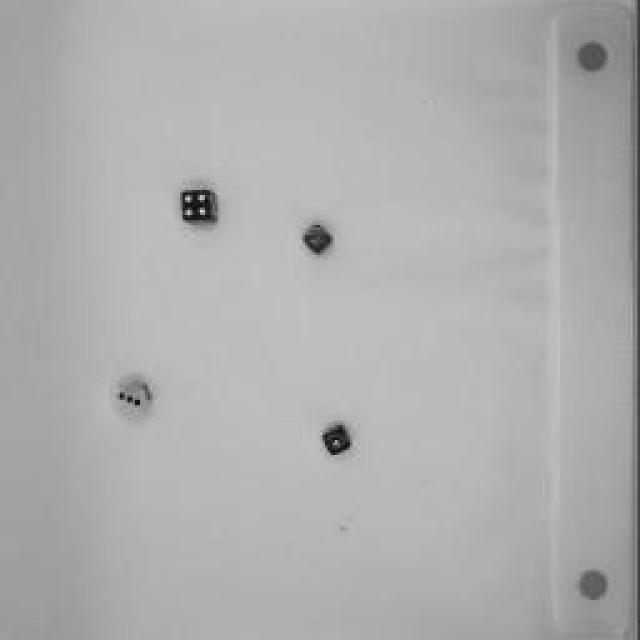dice_1: (319, 420, 359, 460)
dice_2: (295, 222, 340, 268)
dice_3: (115, 365, 157, 423)
dice_4: (175, 185, 225, 233)
